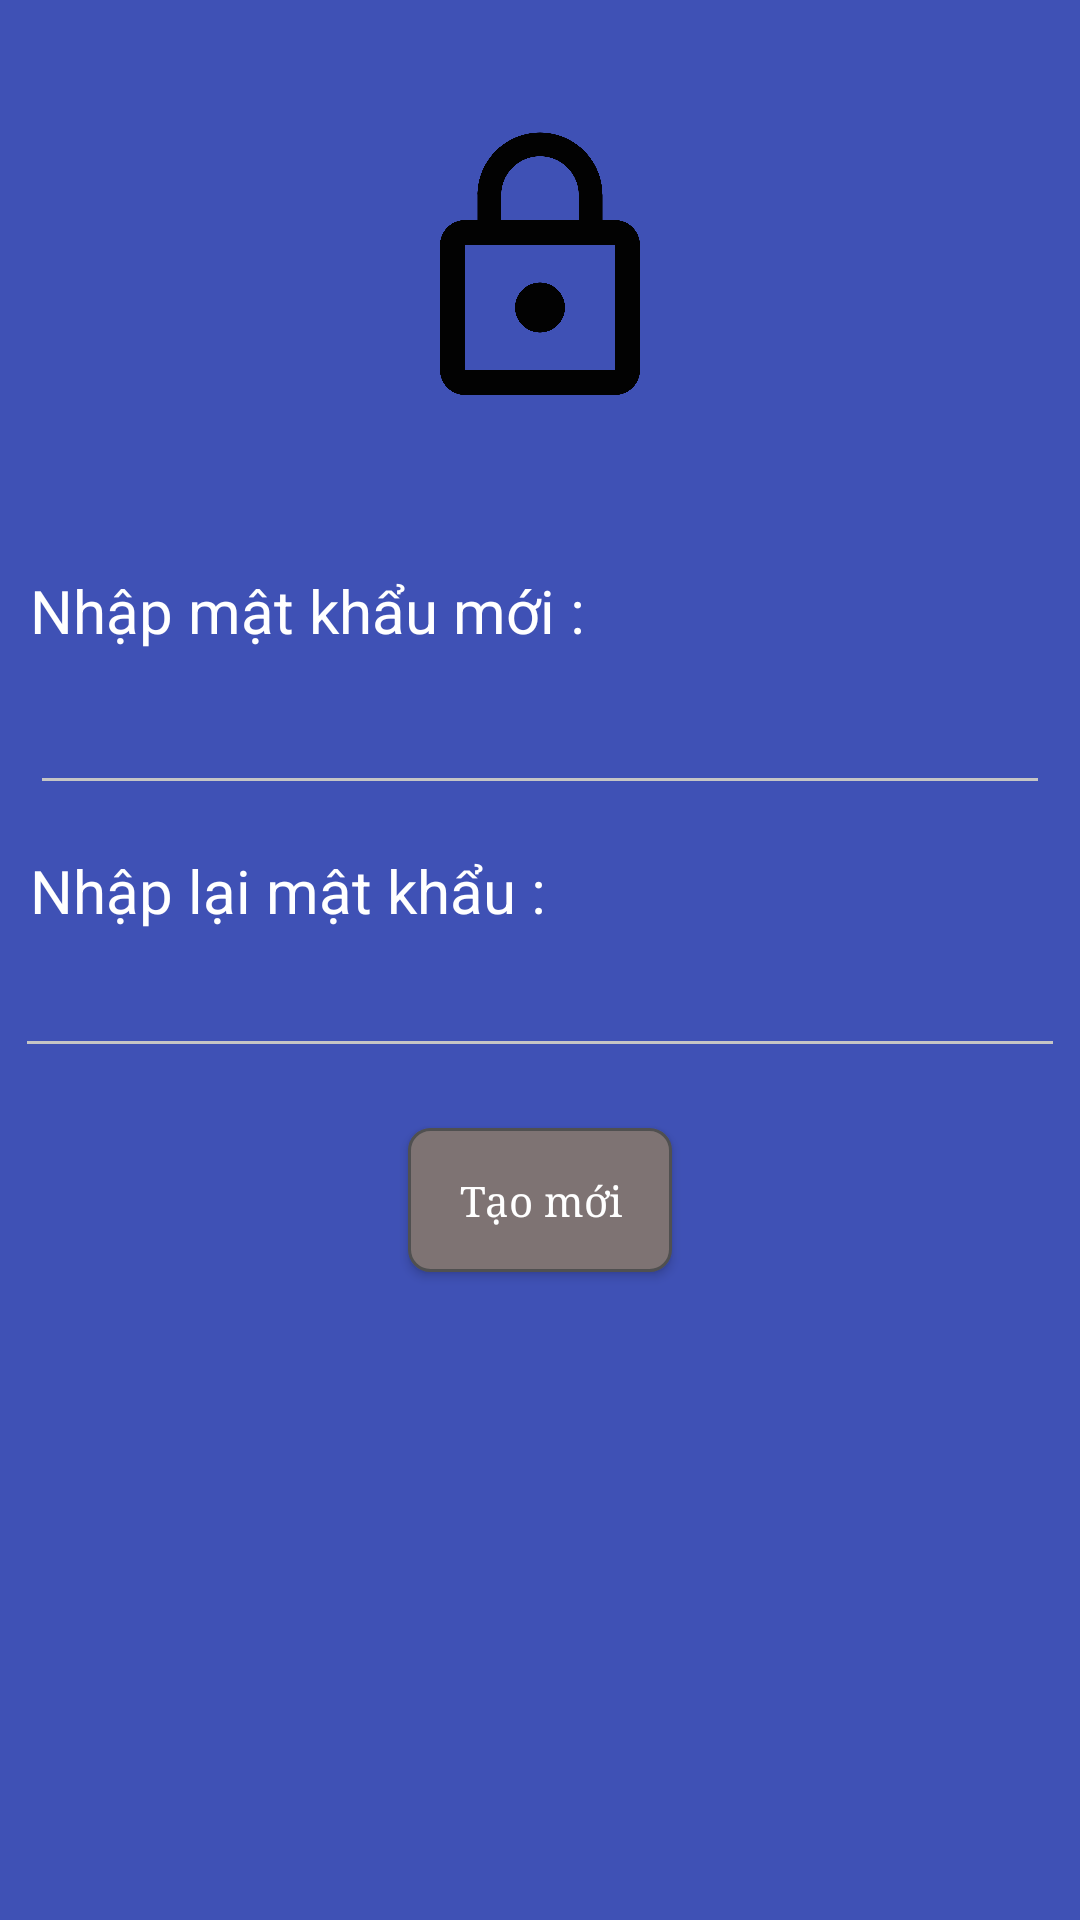

Where icons sit on this 1080w x 1920h app screen, as [left=x1, top=y1, right=x2, bottom=y2]:
lock: [left=440, top=132, right=640, bottom=395]
